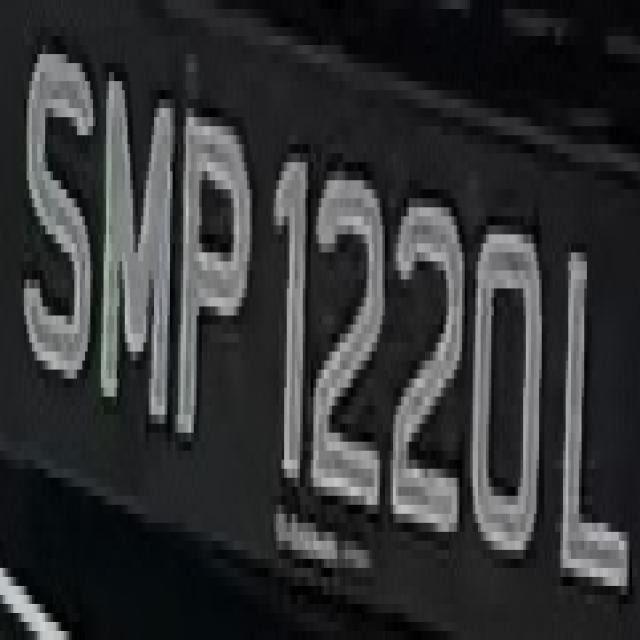0: (467, 207, 547, 559)
1: (271, 90, 313, 532)
2: (313, 126, 396, 550), (385, 198, 470, 550)
L: (555, 234, 629, 631)
M: (93, 45, 175, 451)
P: (175, 90, 252, 487)
S: (19, 18, 93, 415)
